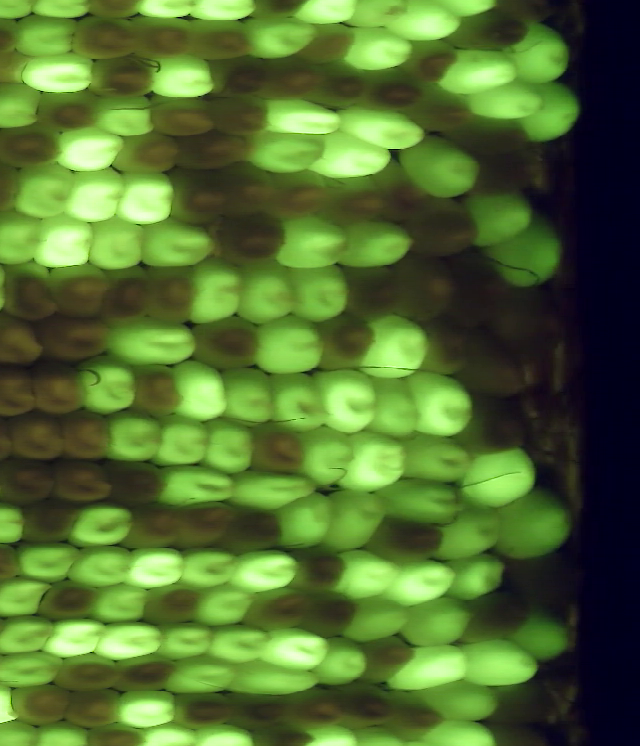fluorescent: (487, 484, 575, 567), (486, 206, 566, 294), (397, 132, 485, 206), (454, 441, 544, 512), (426, 494, 515, 565), (315, 484, 395, 556), (331, 100, 432, 156), (247, 310, 330, 377), (354, 314, 436, 381), (403, 370, 481, 439), (234, 250, 302, 328), (105, 314, 203, 368), (271, 211, 356, 272), (185, 248, 249, 329), (333, 215, 420, 274), (305, 129, 398, 184), (505, 13, 572, 89), (225, 467, 324, 518), (313, 364, 381, 438), (336, 427, 414, 491), (434, 44, 522, 100), (385, 640, 475, 694), (71, 351, 143, 418), (395, 429, 481, 485), (460, 635, 540, 694), (287, 255, 354, 325), (7, 159, 79, 224), (400, 595, 478, 654), (19, 45, 105, 98), (518, 79, 586, 146), (149, 460, 240, 510), (242, 127, 329, 179), (461, 188, 535, 249), (360, 374, 428, 440), (216, 363, 282, 431), (138, 219, 221, 273), (226, 656, 325, 701), (263, 369, 329, 436), (255, 94, 350, 140), (33, 209, 99, 275), (170, 357, 235, 424), (332, 545, 405, 604), (382, 479, 468, 529), (298, 421, 362, 488), (270, 490, 338, 553), (149, 409, 218, 471), (340, 594, 416, 650), (51, 122, 134, 173), (62, 164, 127, 229), (101, 407, 170, 468), (225, 543, 302, 597), (418, 678, 503, 726), (67, 497, 140, 552), (13, 536, 87, 590), (112, 167, 177, 228), (7, 10, 84, 60), (260, 623, 335, 674), (145, 50, 218, 102), (90, 89, 162, 141), (467, 79, 550, 124), (390, 558, 459, 612), (111, 684, 184, 735), (84, 216, 149, 273), (384, 1, 469, 44), (64, 540, 138, 589), (199, 416, 259, 475), (515, 609, 576, 666), (164, 654, 241, 699), (93, 619, 171, 663), (448, 549, 511, 602), (206, 619, 277, 666), (87, 580, 154, 629), (312, 634, 371, 689), (123, 545, 192, 592), (0, 208, 51, 269), (175, 546, 243, 591), (0, 648, 71, 690), (155, 616, 218, 663), (0, 573, 58, 624), (195, 583, 256, 631), (418, 715, 509, 746), (0, 613, 62, 658), (42, 616, 105, 660), (0, 77, 46, 131), (285, 1, 364, 29), (342, 1, 417, 30), (27, 716, 94, 746), (0, 499, 34, 549), (184, 1, 260, 23), (130, 1, 199, 21), (0, 718, 45, 746)
nonfluorescent: (480, 271, 568, 359), (499, 548, 592, 622), (447, 383, 536, 460), (386, 251, 465, 330), (400, 191, 487, 261), (455, 576, 533, 649), (450, 329, 532, 397), (34, 309, 118, 370), (446, 248, 508, 330), (43, 259, 120, 325), (367, 511, 456, 568), (163, 160, 236, 229), (213, 203, 290, 268), (451, 110, 537, 166), (262, 163, 335, 227), (190, 313, 266, 374), (65, 11, 148, 66), (137, 260, 202, 330), (202, 91, 283, 147), (335, 259, 407, 322), (0, 259, 66, 327), (482, 678, 565, 732), (243, 417, 314, 480), (201, 44, 278, 102), (169, 493, 242, 554), (214, 157, 283, 221), (443, 5, 531, 55), (380, 683, 452, 744), (310, 311, 382, 372), (325, 679, 403, 735), (368, 159, 432, 226), (3, 404, 71, 467), (95, 264, 163, 327), (48, 452, 118, 513), (182, 14, 262, 67), (86, 49, 163, 104), (99, 456, 172, 514), (238, 584, 321, 635), (303, 59, 377, 116), (405, 82, 475, 142), (321, 171, 391, 231), (278, 681, 354, 736), (117, 497, 190, 554), (123, 9, 202, 61), (27, 356, 91, 420), (219, 502, 292, 558), (173, 128, 258, 176), (55, 405, 120, 467), (416, 314, 476, 381), (286, 540, 355, 598), (255, 53, 329, 107), (354, 61, 428, 115), (222, 684, 298, 735), (52, 649, 129, 699), (130, 361, 189, 426), (145, 93, 220, 144), (299, 587, 368, 642), (135, 577, 205, 631), (4, 678, 75, 731), (105, 649, 183, 697), (30, 575, 104, 625), (55, 682, 129, 732), (28, 86, 105, 134), (16, 493, 83, 548), (357, 629, 417, 689), (295, 17, 364, 68), (0, 120, 65, 174), (115, 129, 185, 179), (167, 689, 243, 733), (0, 455, 60, 510), (397, 29, 457, 84), (0, 306, 47, 371), (0, 359, 43, 422), (78, 719, 153, 746), (0, 45, 35, 88)
